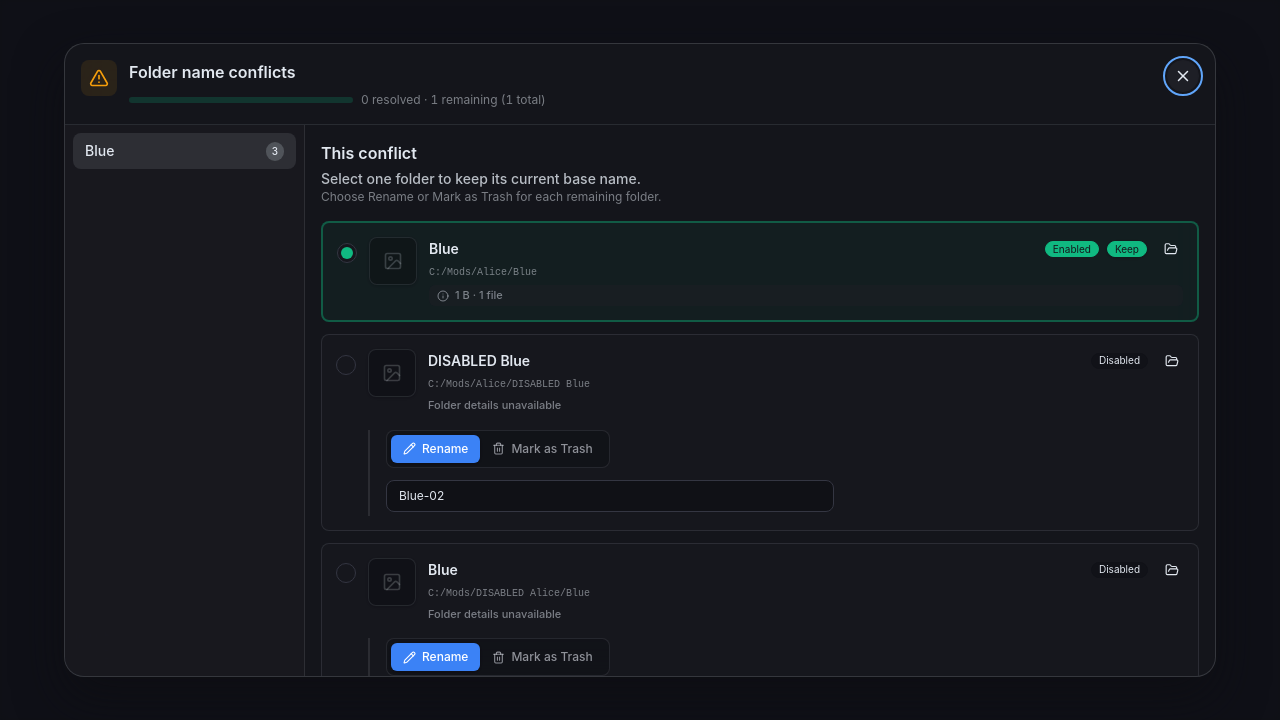
Test case: FolderConflictManager › keeps folder info above the conflict scroll area and does not change the kept folder
The image size is (1280, 720).
Expected: the radio button named "Keep this name instead" in the row of "Enabled" is checked, [337,243,357,263]
Click the button with aria-label "Folder Info".
click(443, 296)  # box [429,286,1183,306]
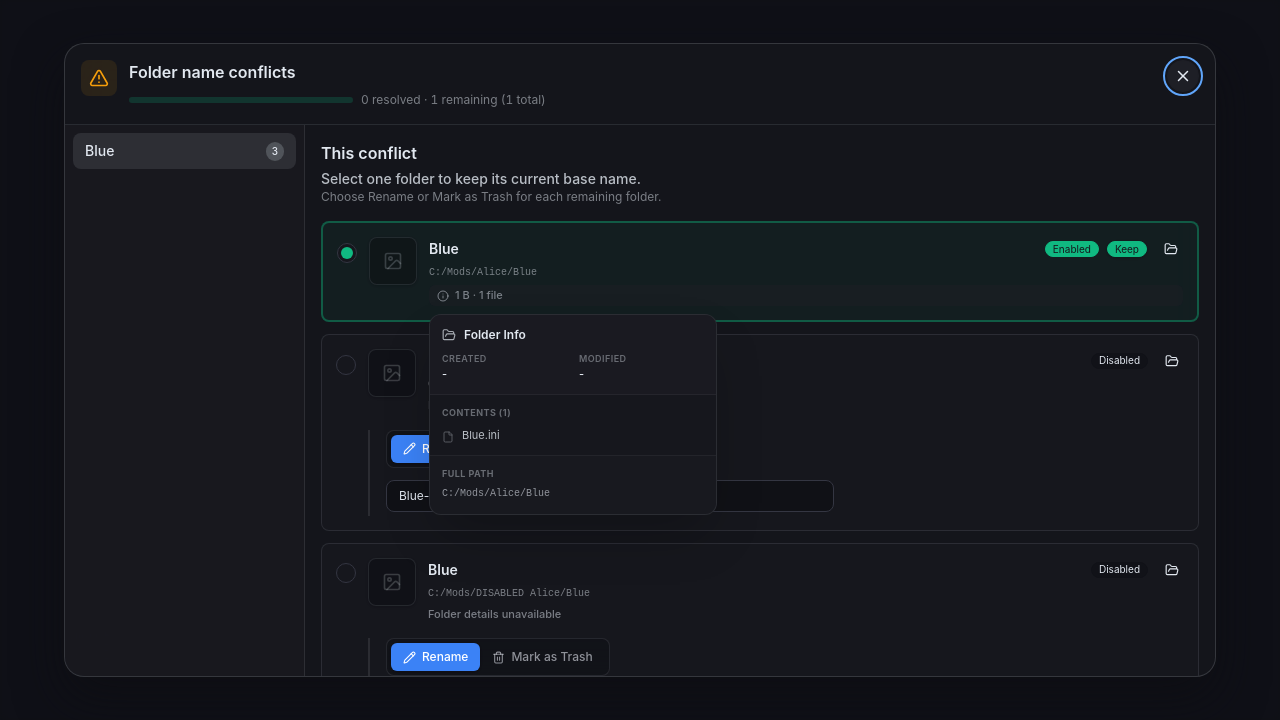
Expected: the radio button named "Keep this name instead" in the row of "Enabled" is checked, [337,243,357,263]
Press Escape in the dialog "Folder Info", box [429,314,717,515]
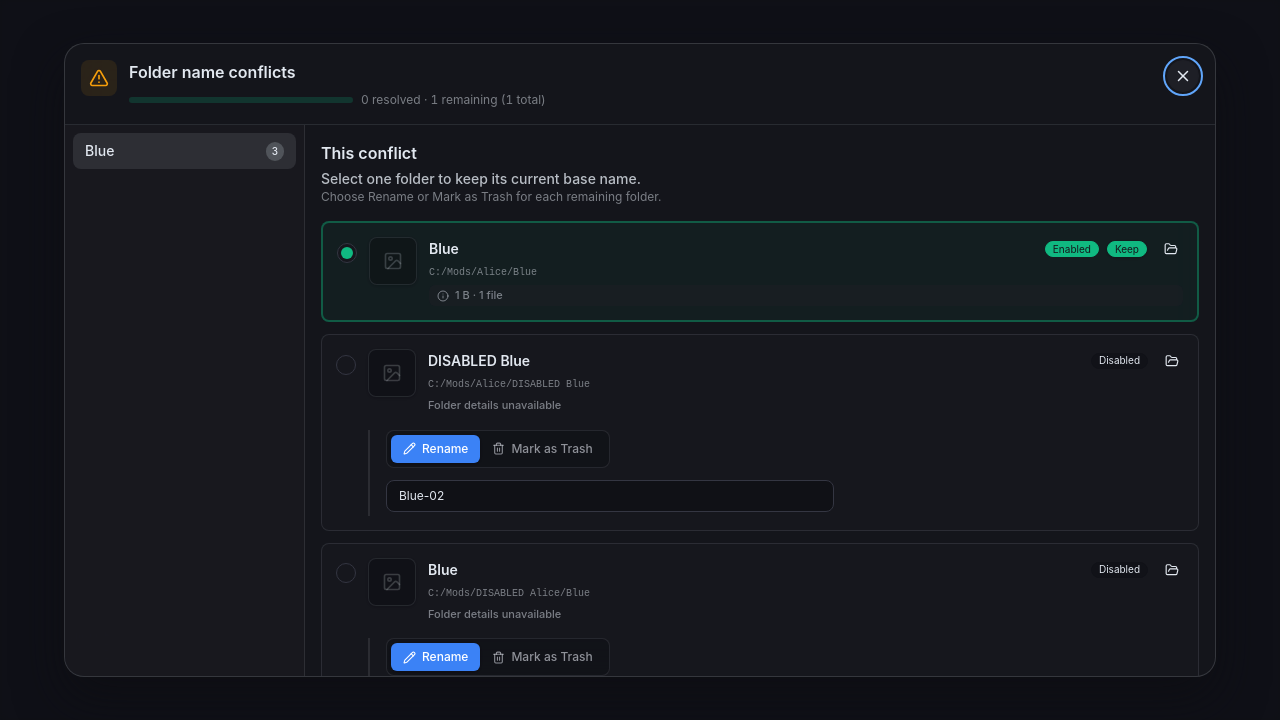
Expected: the heading "Folder Info" is gone
